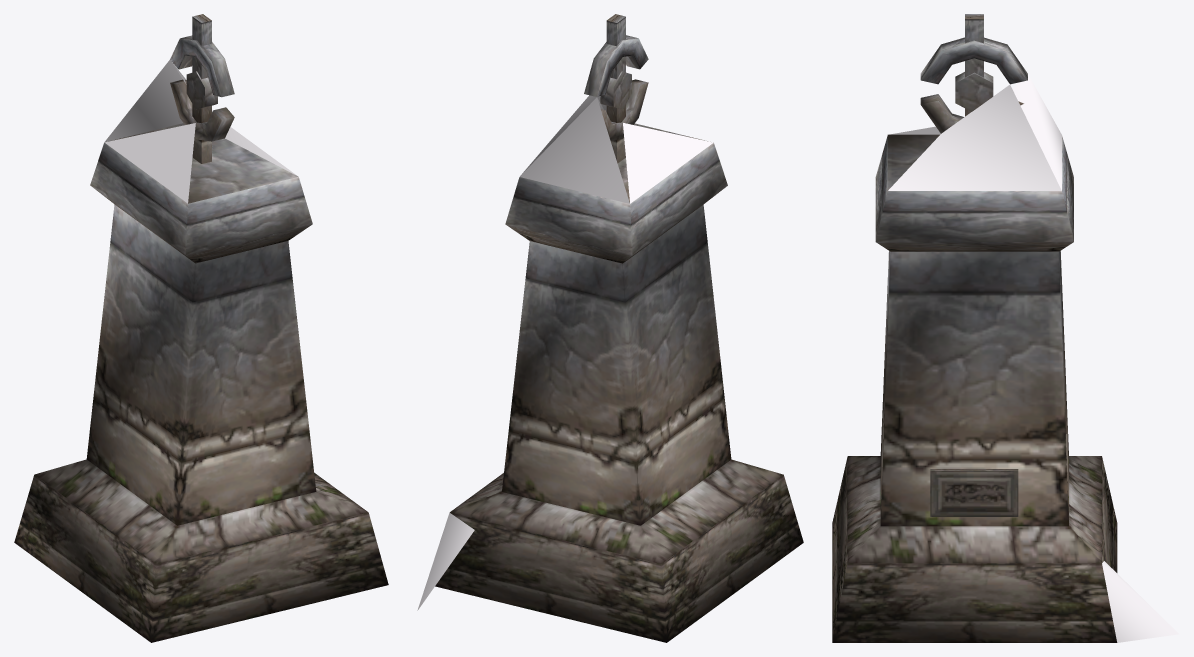
File: tombstonemonument01.obj
3 renders of one model, left to right at view 1: azimuth 30°, elevation 25°; view 2: azimuth 150°, elevation 25°; view 3: azimuth 270°, elevation 25°, orthographic. The views are drawn at different scales.
Visible parts, largest first — view 1: Geoset1, Geoset0, Geoset3; view 2: Geoset1, Geoset0, Geoset3; view 3: Geoset1, Geoset0, Geoset3, Geoset2.
Part boxes in pixels (x1=…): Geoset1: x1=86, y1=14, x2=316, y2=525; Geoset0: x1=14, y1=459, x2=388, y2=642; Geoset3: x1=104, y1=60, x2=297, y2=203; Geoset1: x1=502, y1=14, x2=731, y2=525; Geoset0: x1=435, y1=459, x2=803, y2=642; Geoset3: x1=417, y1=95, x2=713, y2=610; Geoset1: x1=875, y1=14, x2=1073, y2=526; Geoset0: x1=832, y1=456, x2=1117, y2=642; Geoset3: x1=888, y1=74, x2=1178, y2=642; Geoset2: x1=930, y1=469, x2=1018, y2=516.
Size of the model in its own units: 2.52 by 5.53 by 3.07.
4 materials, 4 textured.
